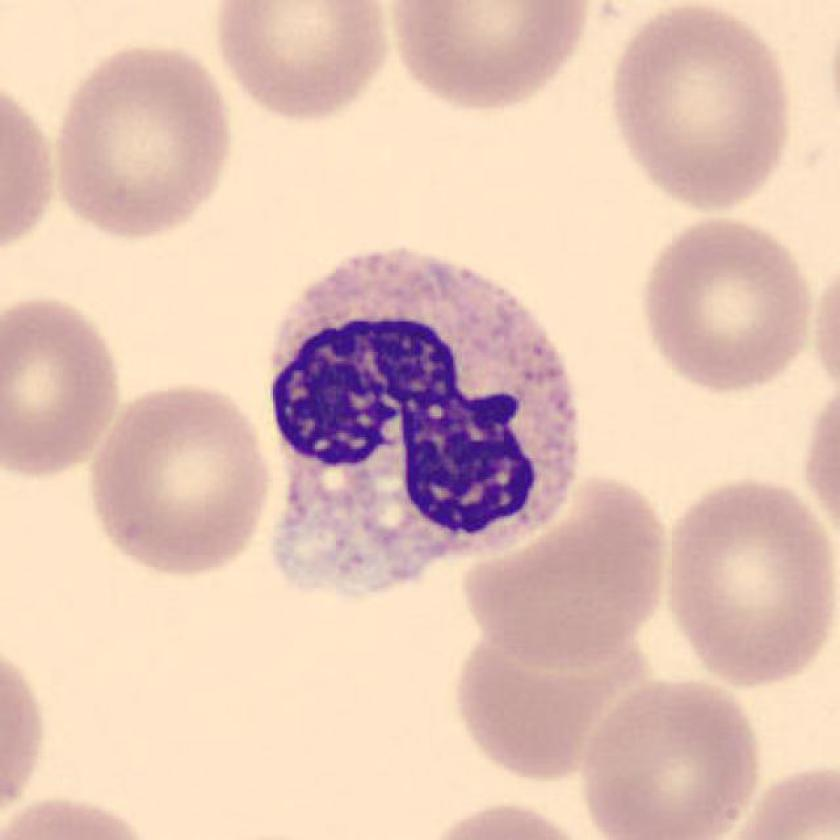neutrophil: (274, 249, 577, 598)
